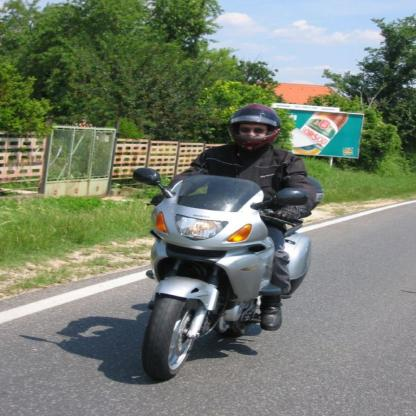Helmet: (222, 102, 283, 151)
